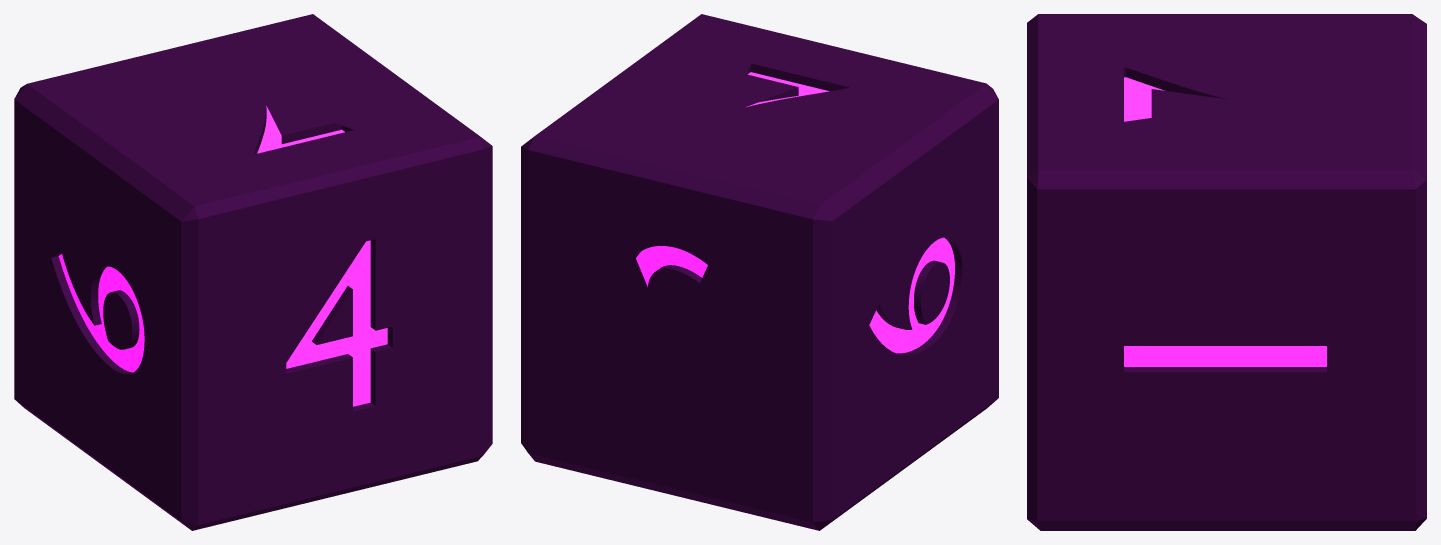
3 renders of one model, left to right at view 1: azimuth 30°, elevation 25°; view 2: azimuth 150°, elevation 25°; view 3: azimuth 270°, elevation 25°, orthographic. The views are drawn at different scales.
Parts seen in each view (by area): view 1: Cube, Cube.001; view 2: Cube, Cube.001; view 3: Cube, Cube.001.
Boxes of the visible parts, x1=… form: Cube: x1=14, y1=14, x2=492, y2=530; Cube.001: x1=58, y1=106, x2=387, y2=406; Cube: x1=521, y1=14, x2=998, y2=530; Cube.001: x1=636, y1=72, x2=954, y2=353; Cube: x1=1027, y1=14, x2=1426, y2=530; Cube.001: x1=1124, y1=77, x2=1326, y2=366.
Size of the model in its own units: 200 by 200 by 200.
